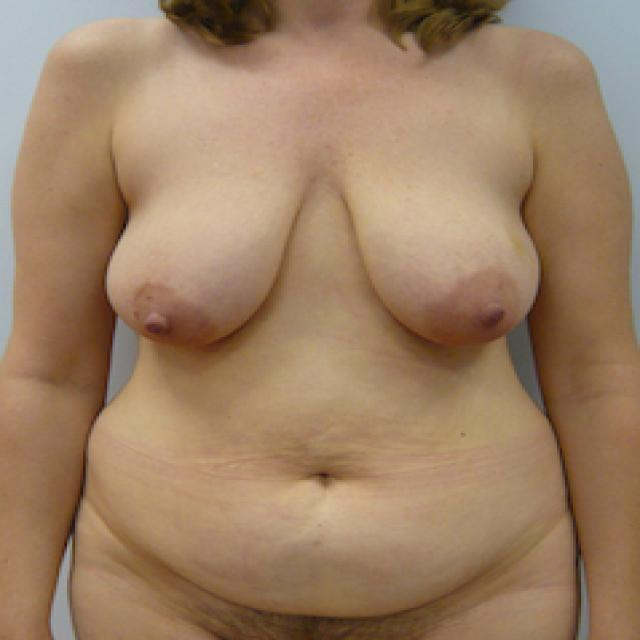Seno ileso: (96, 123, 321, 364), (327, 123, 552, 364)
